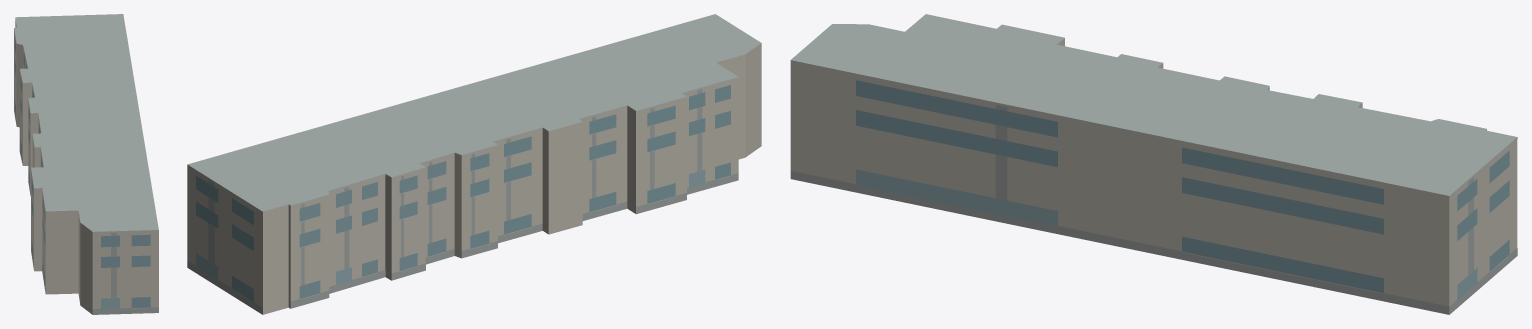
The model's file is residential-381376b3-ff91-486d-a0b4-4a77d5012aaa.glb.
3 renders of one model, left to right at view 1: azimuth 30°, elevation 25°; view 2: azimuth 150°, elevation 25°; view 3: azimuth 270°, elevation 25°, orthographic. The views are drawn at different scales.
Parts seen in each view (by area): view 1: residential-381376b3-ff91-486d-a0b4-4a77d5012aaa.tmp; view 2: residential-381376b3-ff91-486d-a0b4-4a77d5012aaa.tmp; view 3: residential-381376b3-ff91-486d-a0b4-4a77d5012aaa.tmp.
Part boxes in pixels (x1,y1,x2,y2): residential-381376b3-ff91-486d-a0b4-4a77d5012aaa.tmp: [14, 14, 158, 314]; residential-381376b3-ff91-486d-a0b4-4a77d5012aaa.tmp: [187, 14, 761, 314]; residential-381376b3-ff91-486d-a0b4-4a77d5012aaa.tmp: [790, 14, 1517, 314].
Size of the model in its own units: 40.04 by 12.2 by 67.58.
